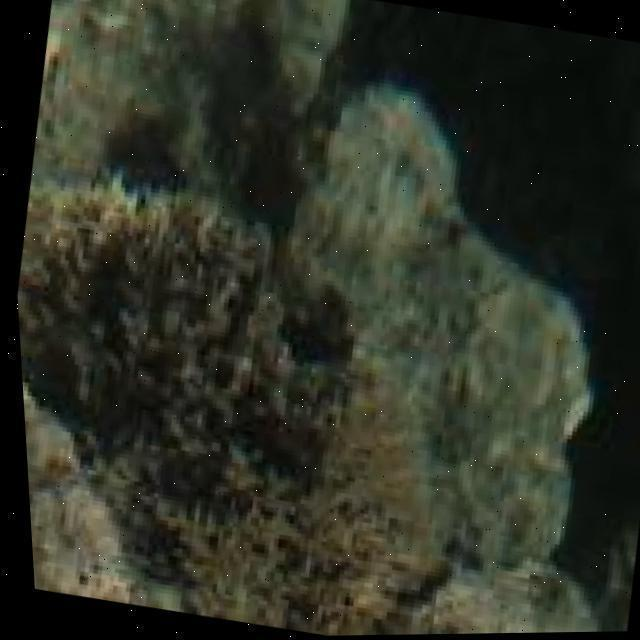Dead Coral: (7, 141, 484, 640)
